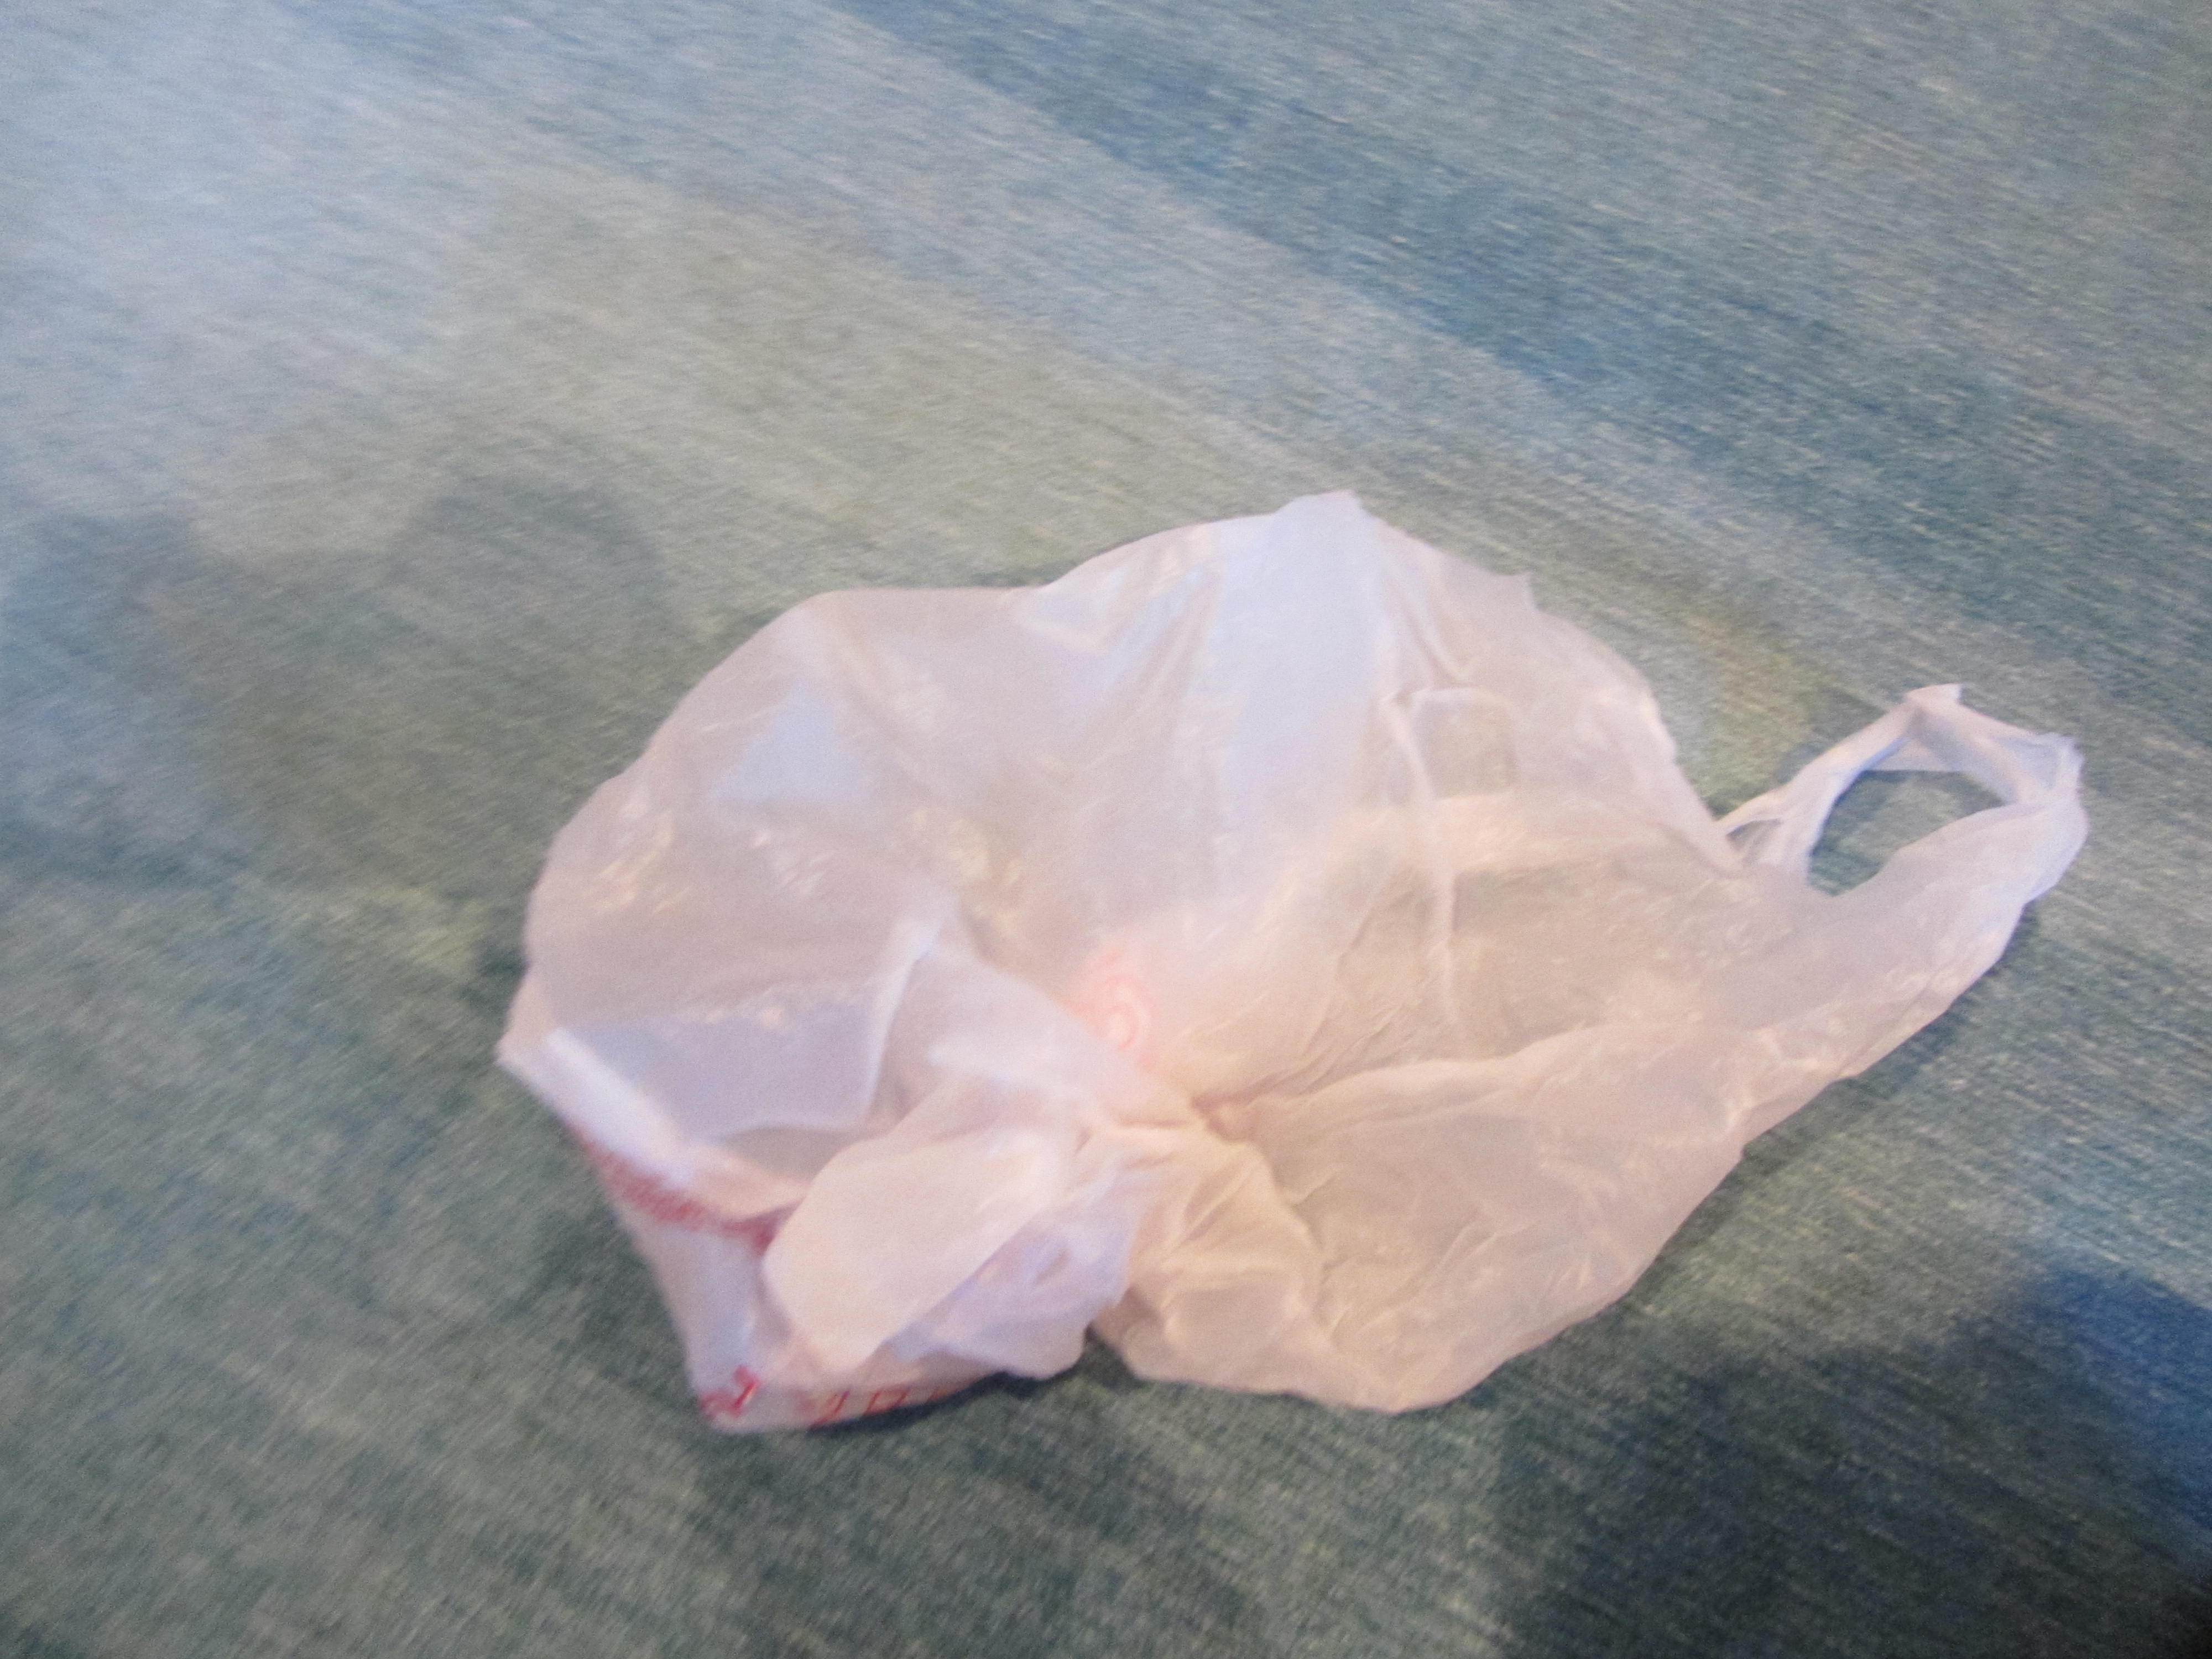plastic_bag: (458, 519, 2094, 1459)
